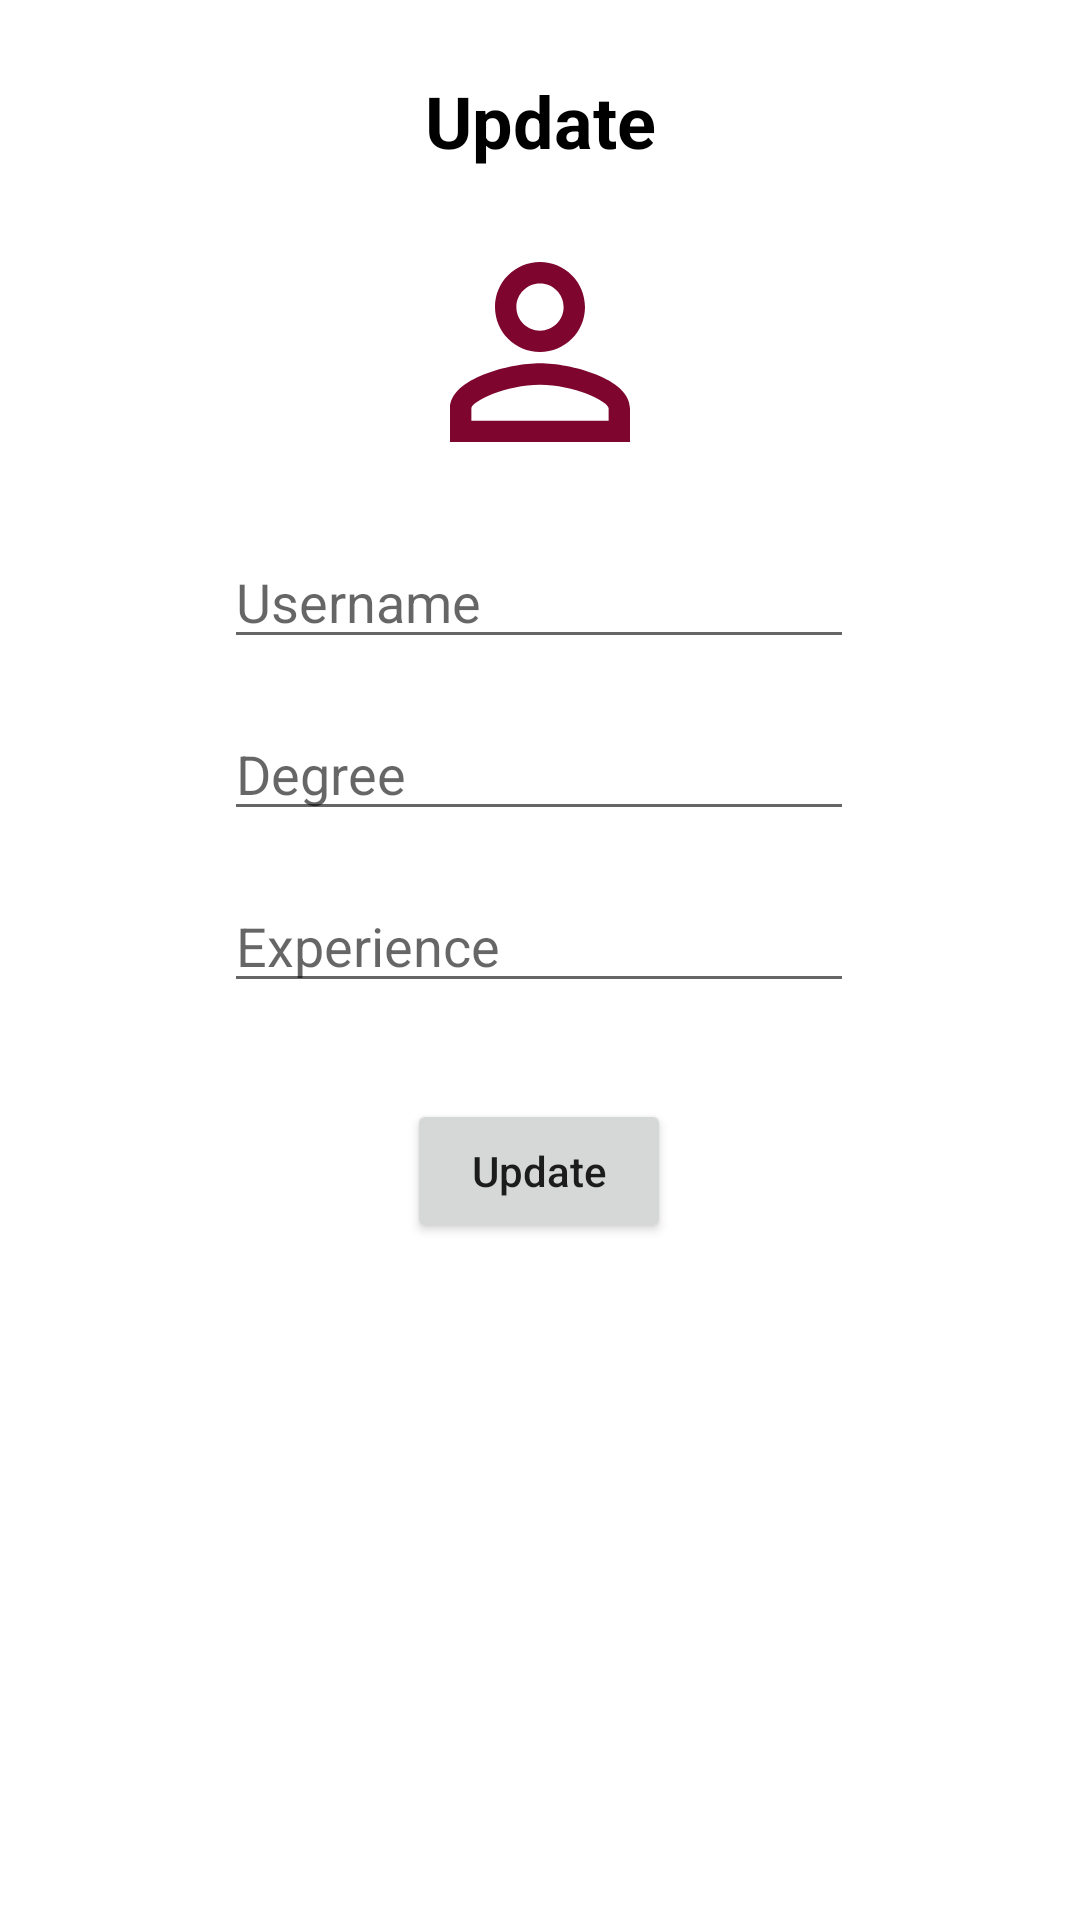

Icon click points for this 1080px×1920px phone screenshot, format point (x, y):
person: point (540, 352)
